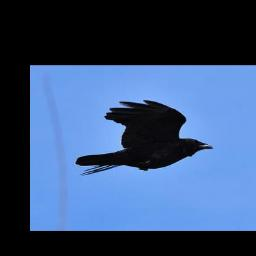Crow: (75, 100, 214, 177)
